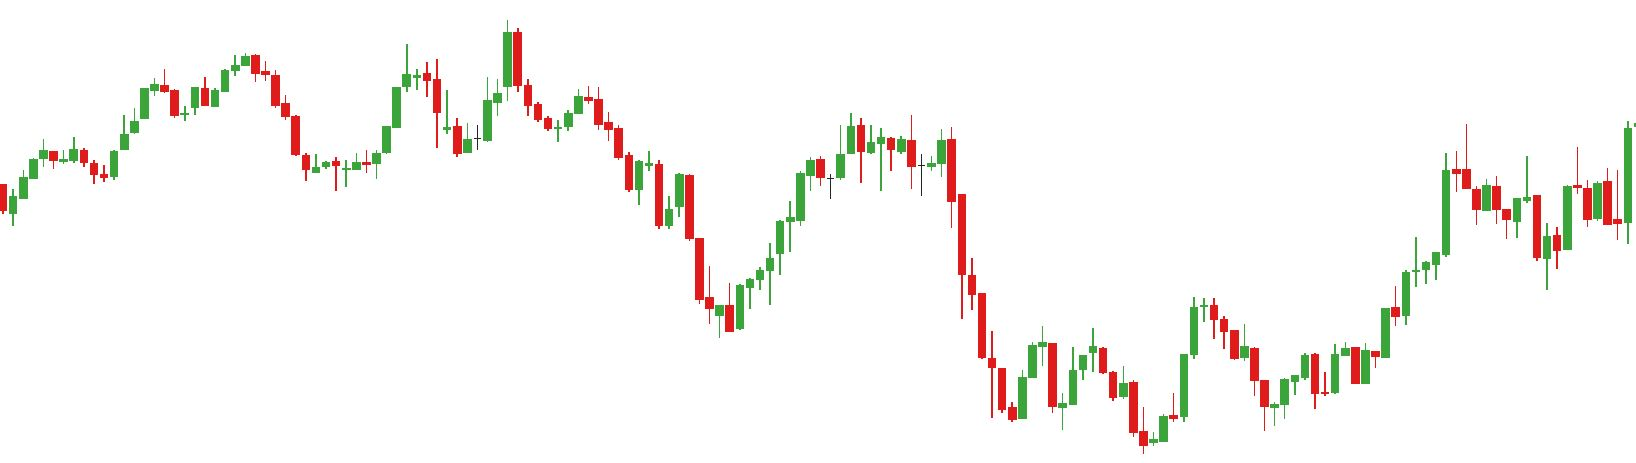buy: (1058, 352, 1170, 461)
sell: (399, 15, 524, 114), (1521, 139, 1580, 226)
